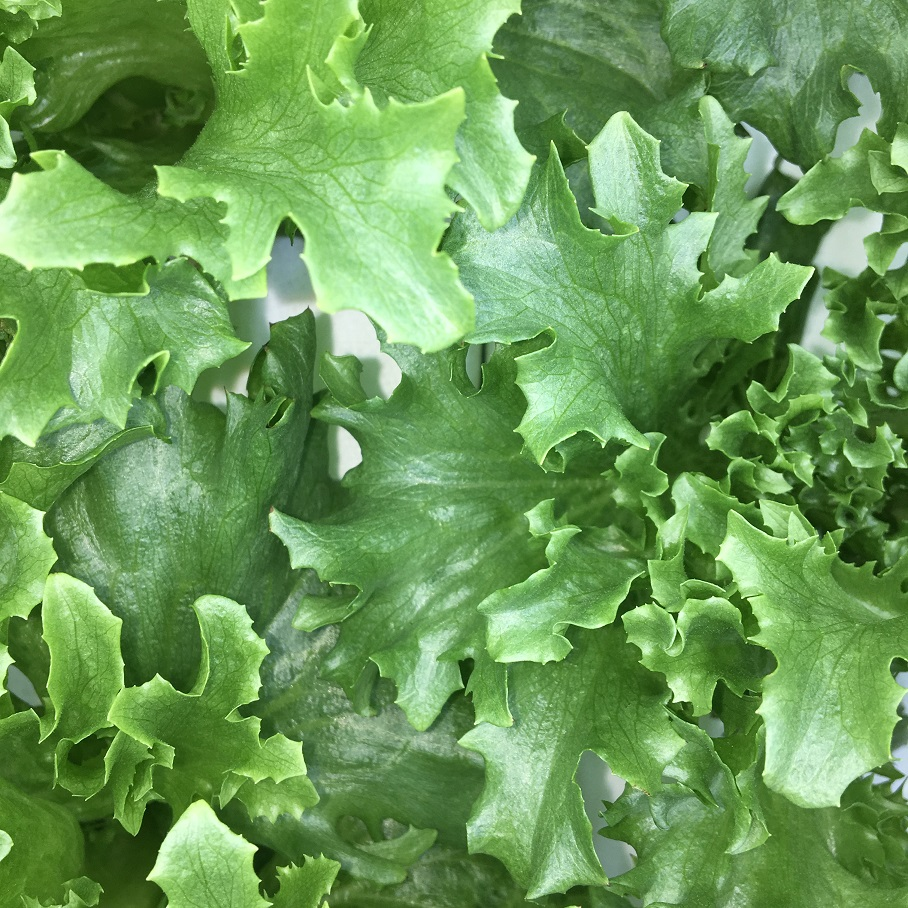tipburn: (630, 774, 662, 802)
